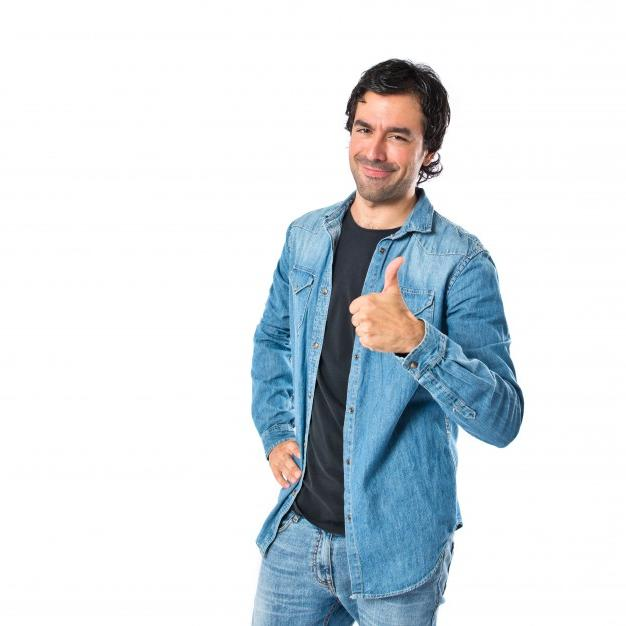thumbsup: (349, 257, 404, 350)
